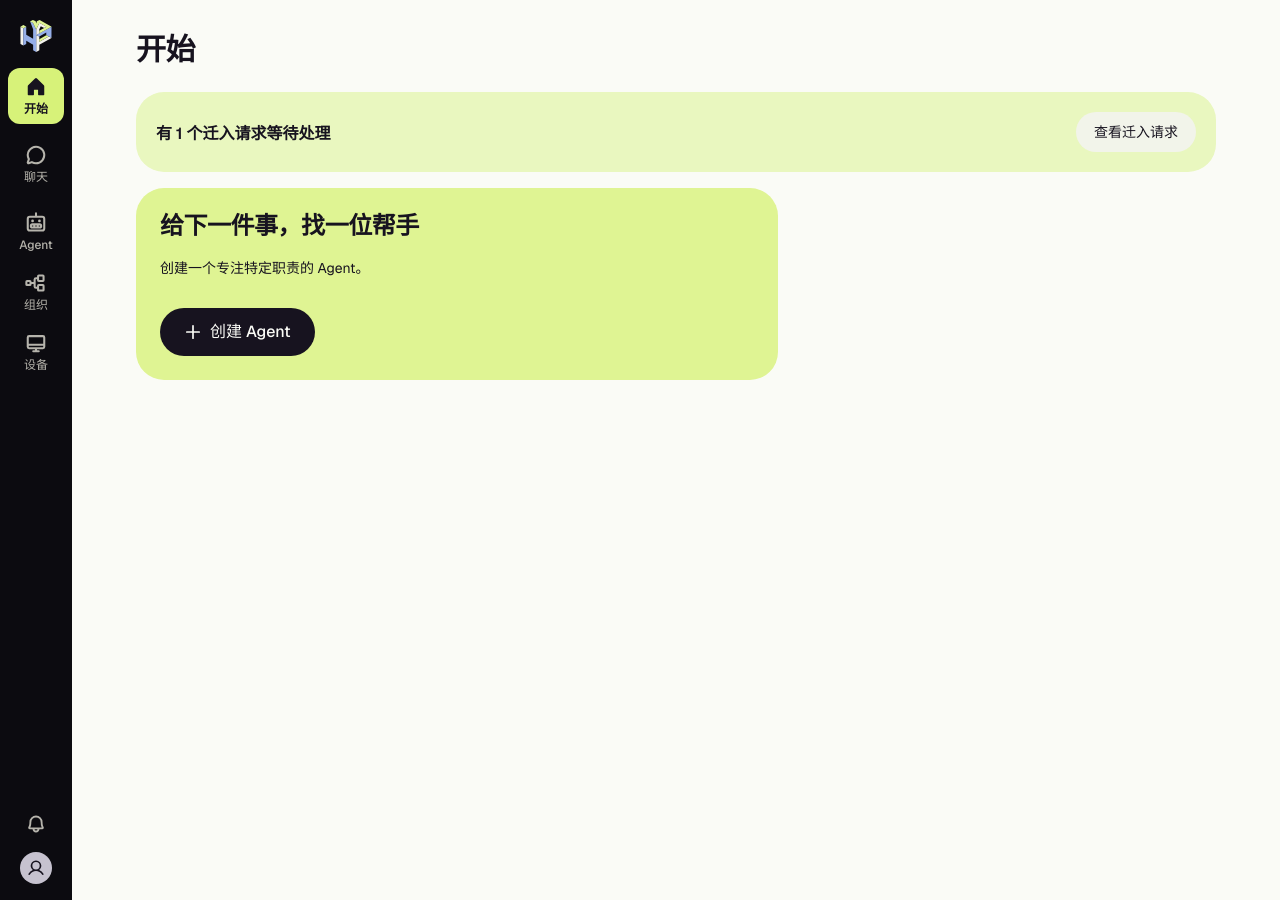
拓扑页保留结构与通信视图，并提供只读网络状态
Click the button "组织". click: (36, 292)
box: [8,264,64,320]
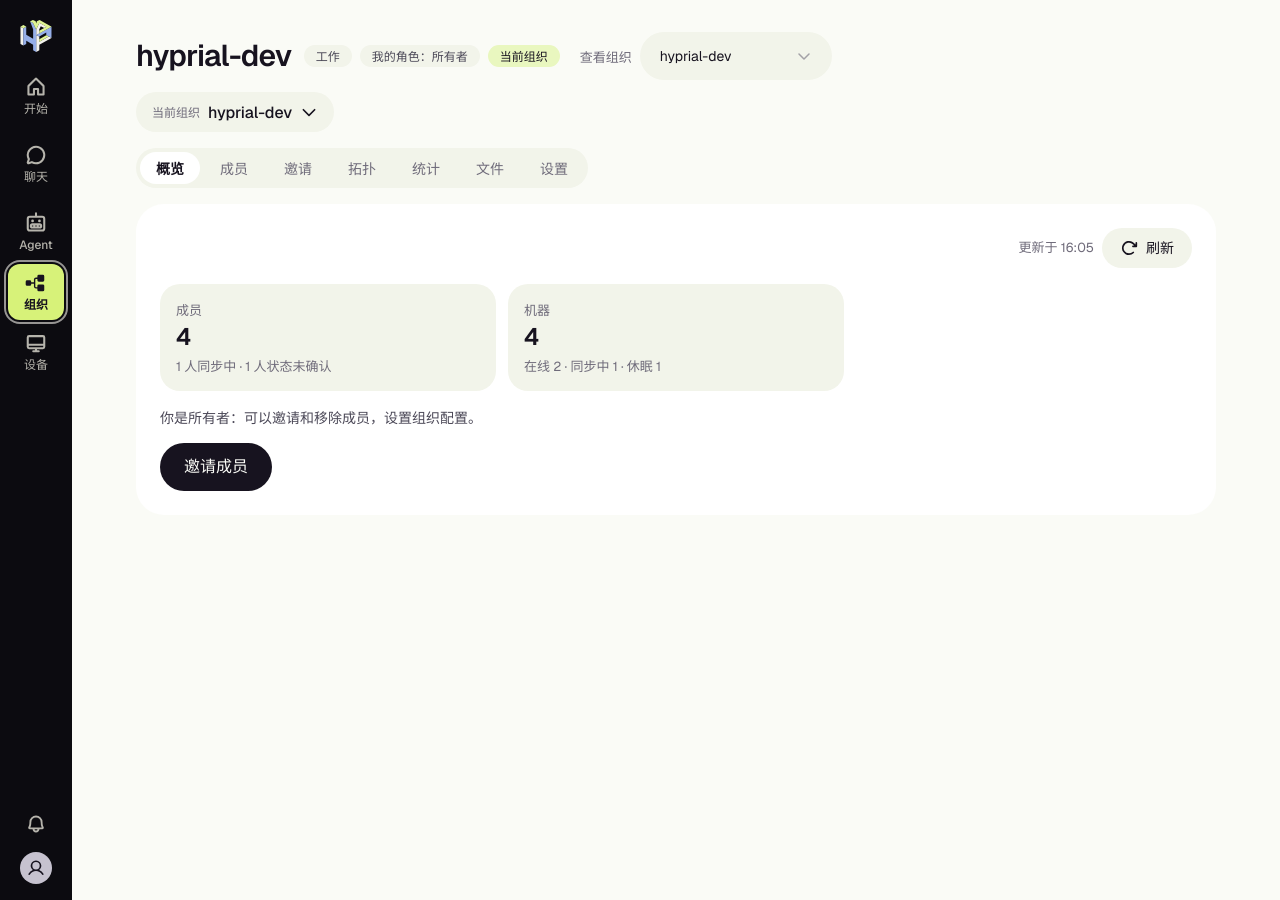
Click the tab "拓扑". click: (362, 168)
box: [332,152,392,184]
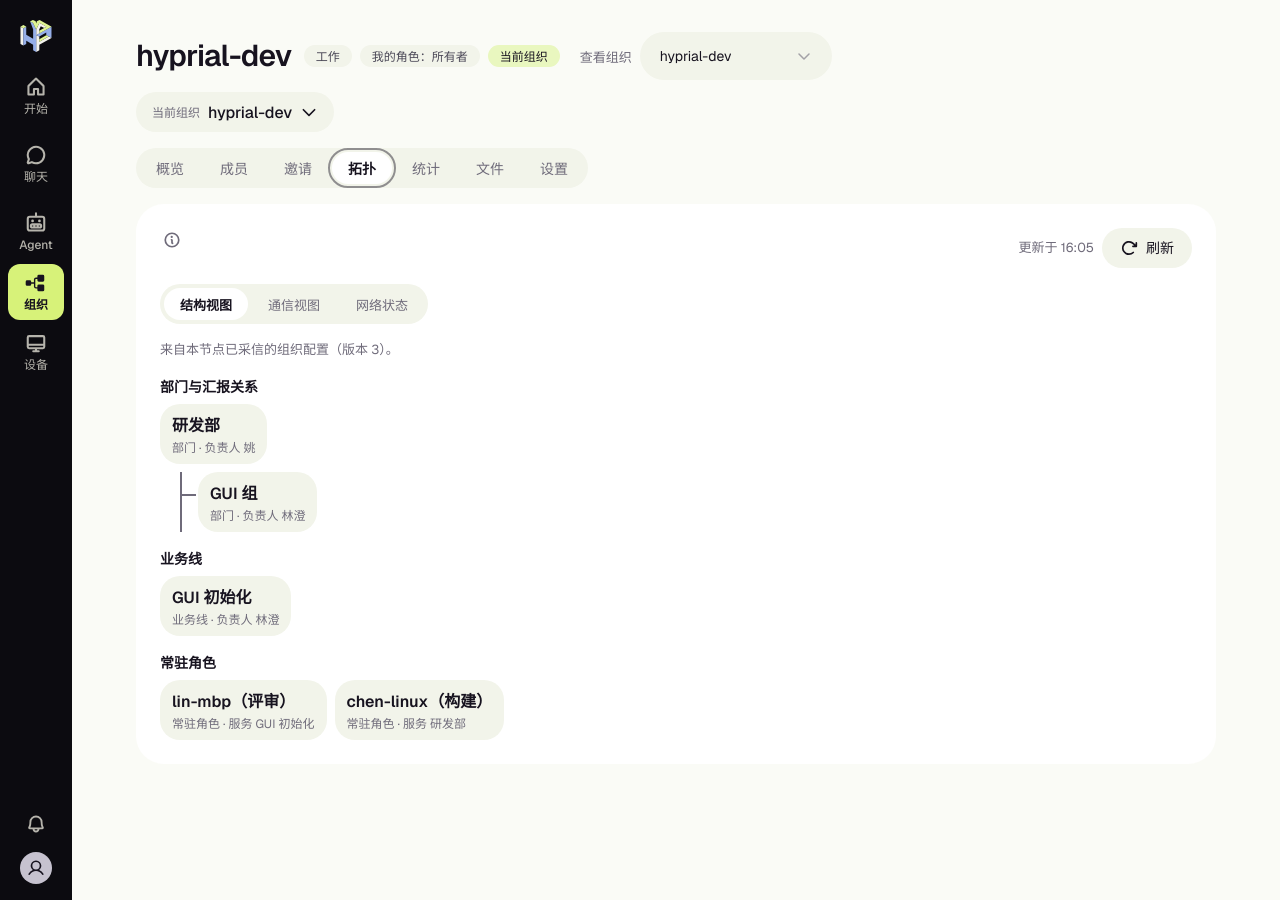
Now the tab "结构视图" is shown, box [164,288,248,320]
Now the tab "通信视图" is shown, box [252,288,336,320]
Click the tab "网络状态". click: (382, 304)
box: [340,288,424,320]
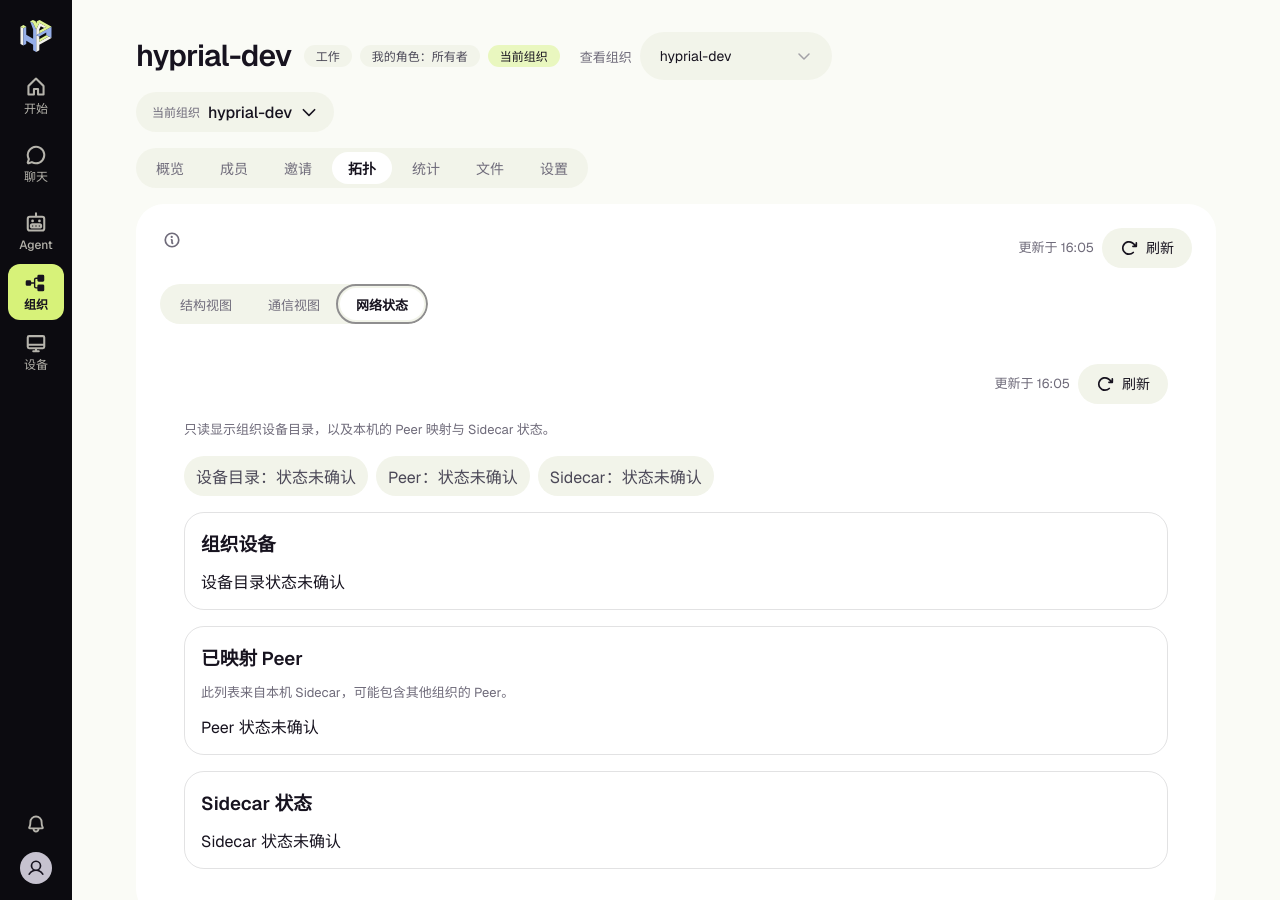
Now the list named "网络数据状态" shows "设备目录", box [196,466,356,488]
Now the heading "Sidecar 状态" is shown, box [201,791,312,816]
